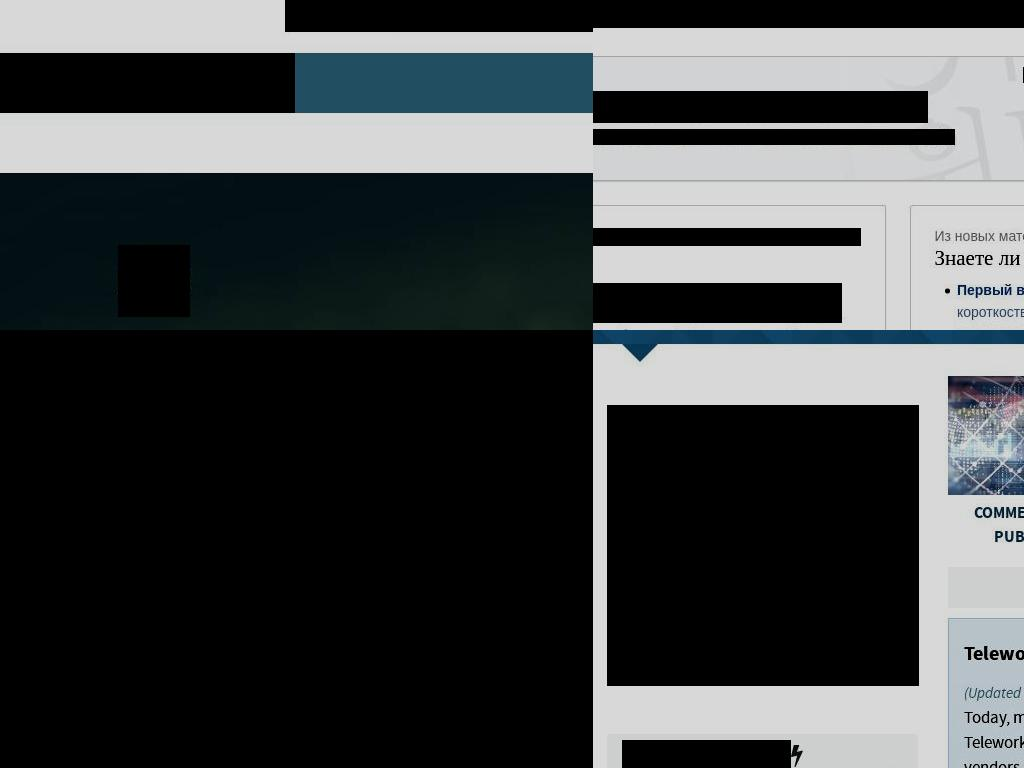button: (607, 405, 919, 446), (607, 445, 919, 486), (607, 485, 919, 526), (607, 525, 919, 566), (607, 565, 919, 606), (607, 605, 919, 646), (607, 645, 919, 686), (0, 53, 113, 113), (273, 688, 408, 736), (112, 53, 213, 113), (212, 53, 295, 113), (0, 600, 113, 641), (285, 0, 400, 32), (919, 0, 1024, 28), (0, 610, 113, 631), (861, 0, 920, 28), (593, 0, 645, 28)
field: (399, 0, 593, 32)
heading: (0, 442, 440, 533), (0, 536, 593, 589), (345, 382, 571, 418), (345, 414, 552, 450), (593, 91, 777, 123), (622, 740, 791, 768), (777, 91, 922, 123), (974, 501, 1024, 547), (934, 246, 1024, 271), (964, 639, 1024, 668), (920, 91, 928, 123)
image: (0, 330, 593, 768), (0, 330, 593, 768), (0, 330, 593, 768), (948, 375, 1024, 495), (118, 245, 190, 317), (273, 381, 326, 443)
link: (273, 616, 550, 636), (757, 129, 952, 145), (273, 560, 376, 580), (956, 303, 1024, 330), (593, 129, 693, 145), (956, 281, 1024, 298), (593, 283, 638, 300)
text: (273, 464, 593, 524), (593, 283, 842, 323), (273, 652, 593, 672), (273, 540, 564, 560), (593, 228, 861, 246), (273, 596, 467, 616), (618, 451, 730, 479), (618, 651, 721, 679), (0, 71, 97, 95), (297, 0, 376, 25), (128, 71, 197, 95), (934, 228, 1024, 246), (618, 491, 674, 519), (888, 445, 919, 486), (888, 485, 919, 526), (888, 645, 919, 686), (228, 71, 279, 95), (964, 684, 1024, 703), (692, 129, 757, 145), (641, 283, 687, 300), (950, 129, 955, 145)
